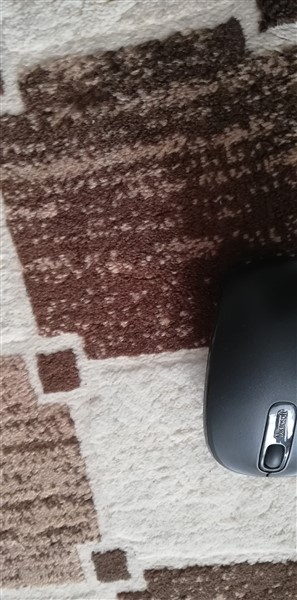mouse: (199, 254, 297, 484)
